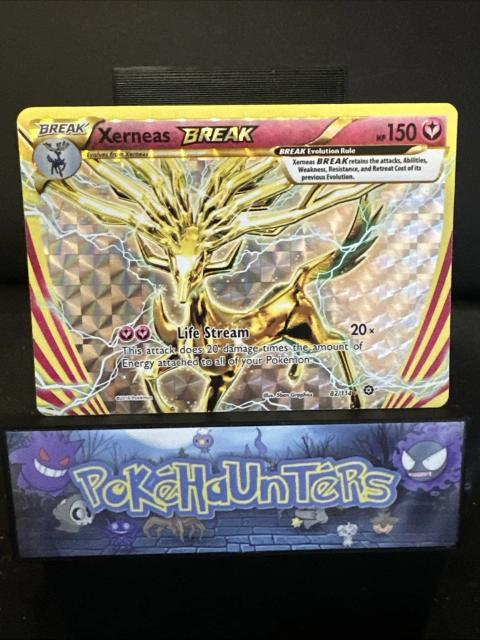Card: (13, 98, 461, 420)
Name: (93, 120, 264, 149)
